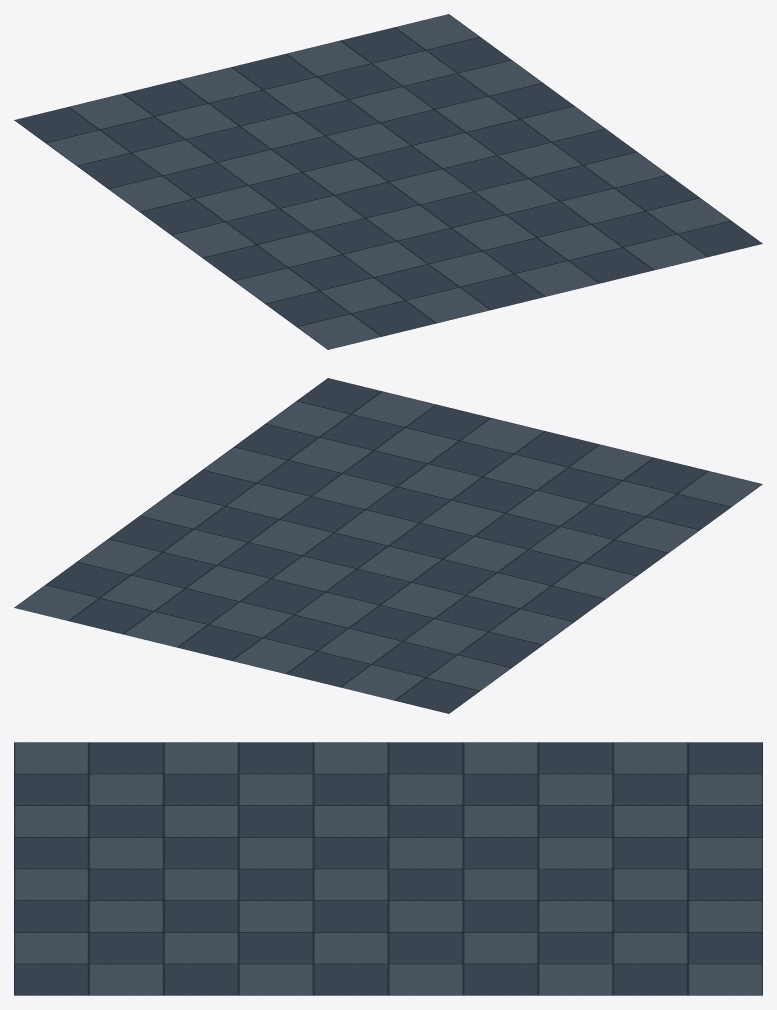
File: neon-floor-texture.gltf
3 renders of one model, top to bottom at view 1: azimuth 30°, elevation 25°; view 2: azimuth 150°, elevation 25°; view 3: azimuth 270°, elevation 25°, orthographic. The views are drawn at different scales.
Visible parts, largest first — view 1: Neon floor; view 2: Neon floor; view 3: Neon floor.
Boxes of the visible parts, <box> form: Neon floor: <box>14,14,762,349</box>; Neon floor: <box>14,378,762,713</box>; Neon floor: <box>14,742,762,995</box>.
Bounding box in the file's own units: 6 × 0 × 7.5.
Materials: 1 (1 with a texture image).
